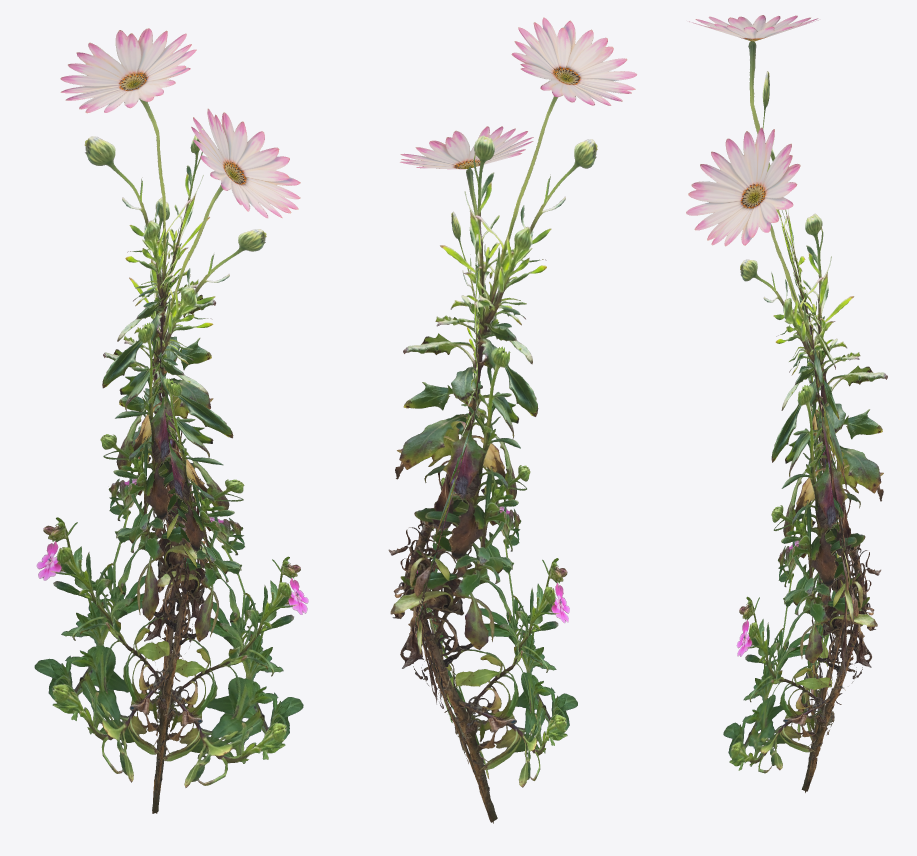
Rendered from m_flower34.fbx.
3 views of the same model, side by side, from view 1: azimuth 30°, elevation 25°; view 2: azimuth 150°, elevation 25°; view 3: azimuth 270°, elevation 25° (orthographic). The views are drawn at different scales.
Parts seen in each view (by area): view 1: mesh_flower34; view 2: mesh_flower34; view 3: mesh_flower34.
Boxes of the visible parts, bbox=[...] form: mesh_flower34: bbox=[34, 28, 308, 813]; mesh_flower34: bbox=[388, 17, 636, 823]; mesh_flower34: bbox=[686, 15, 887, 792].
Size of the model in its own units: 0.2057 by 0.6488 by 0.1692.
Materials: 1 (1 with a texture image).
